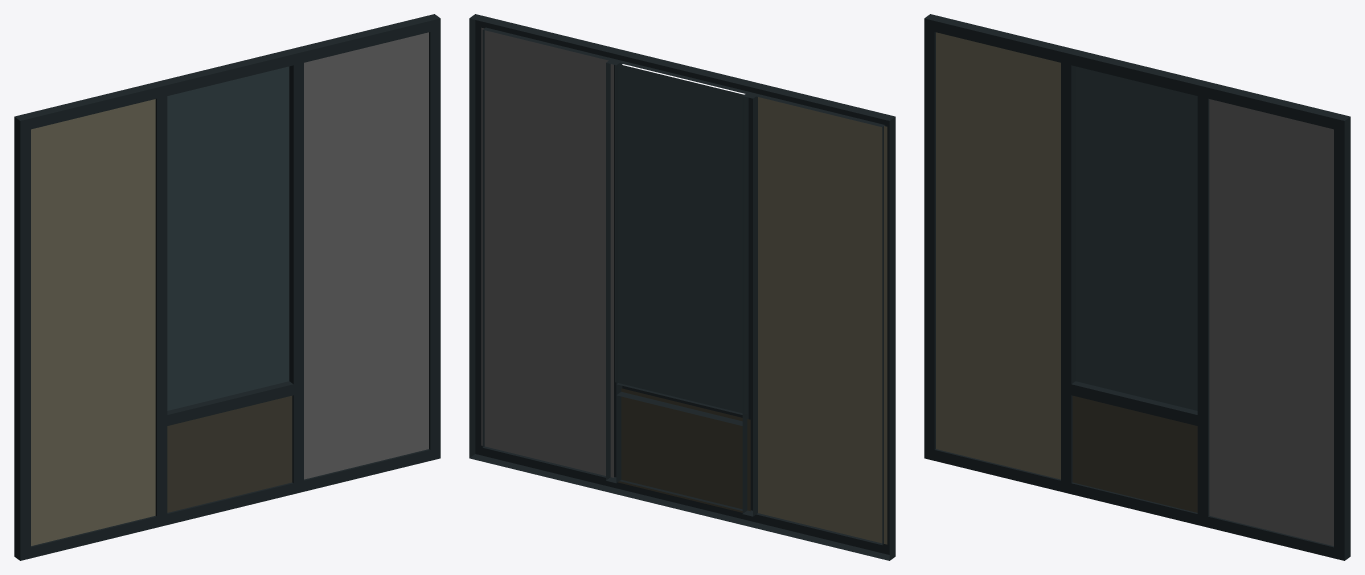
Rendered from front2.fbx.
3 views of the same model, side by side, from view 1: azimuth 30°, elevation 25°; view 2: azimuth 150°, elevation 25°; view 3: azimuth 330°, elevation 25° (orthographic).
Parts seen in each view (by area): view 1: Cube.002; view 2: Cube.002; view 3: Cube.002.
Boxes of the visible parts, x1,y1,x2,y2 form: Cube.002: (14, 14, 440, 560); Cube.002: (469, 14, 895, 560); Cube.002: (924, 14, 1350, 560).
Size of the model in its own units: 400 by 400 by 10.
